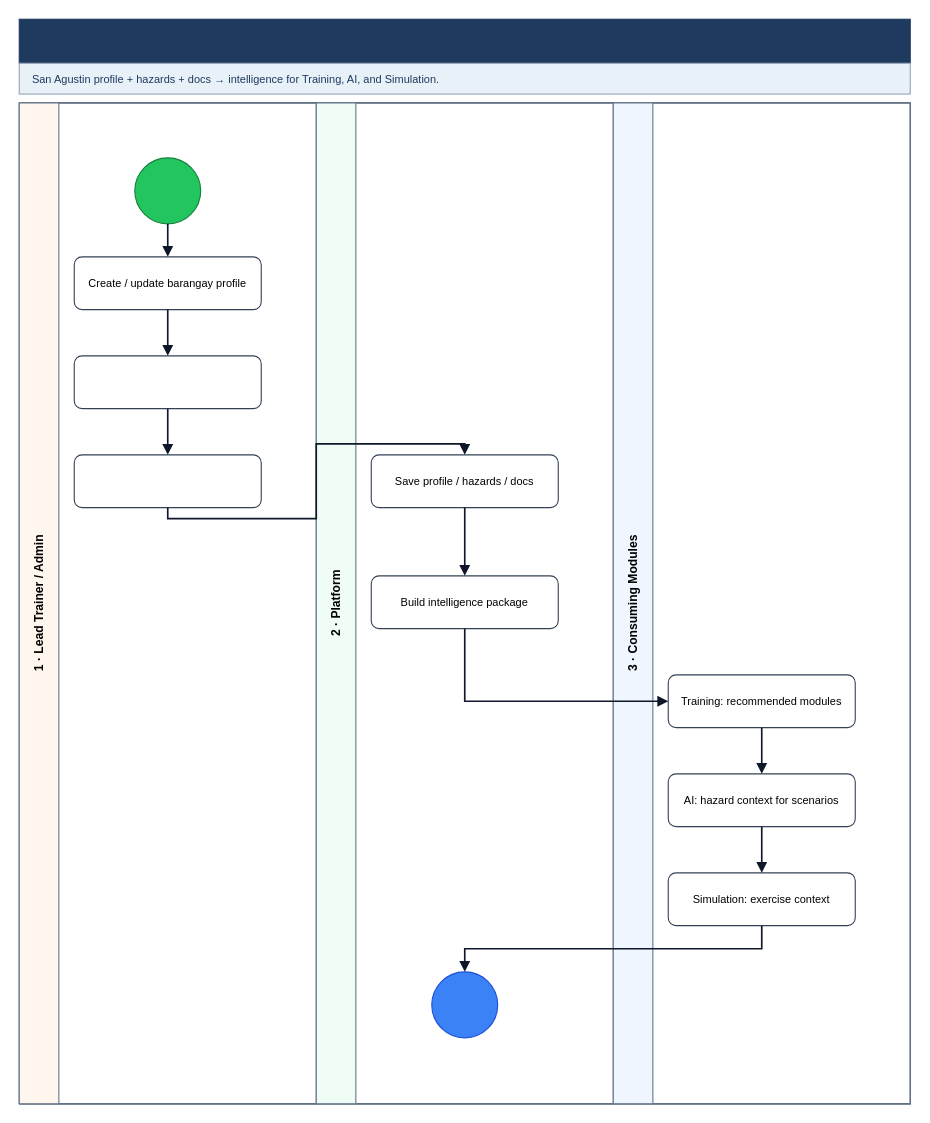
The diagram is 930 pixels wide and 1123 high, and some of its shapes have lost their labels. The centre of each missing label's shape, as x and y in pixels:
BPMN — Hazard Assessment Profile: pixel 464 40
Capture hazard records: pixel 167 382
End: pixel 464 1004
Start: pixel 167 190
Upload supporting documents: pixel 167 481
